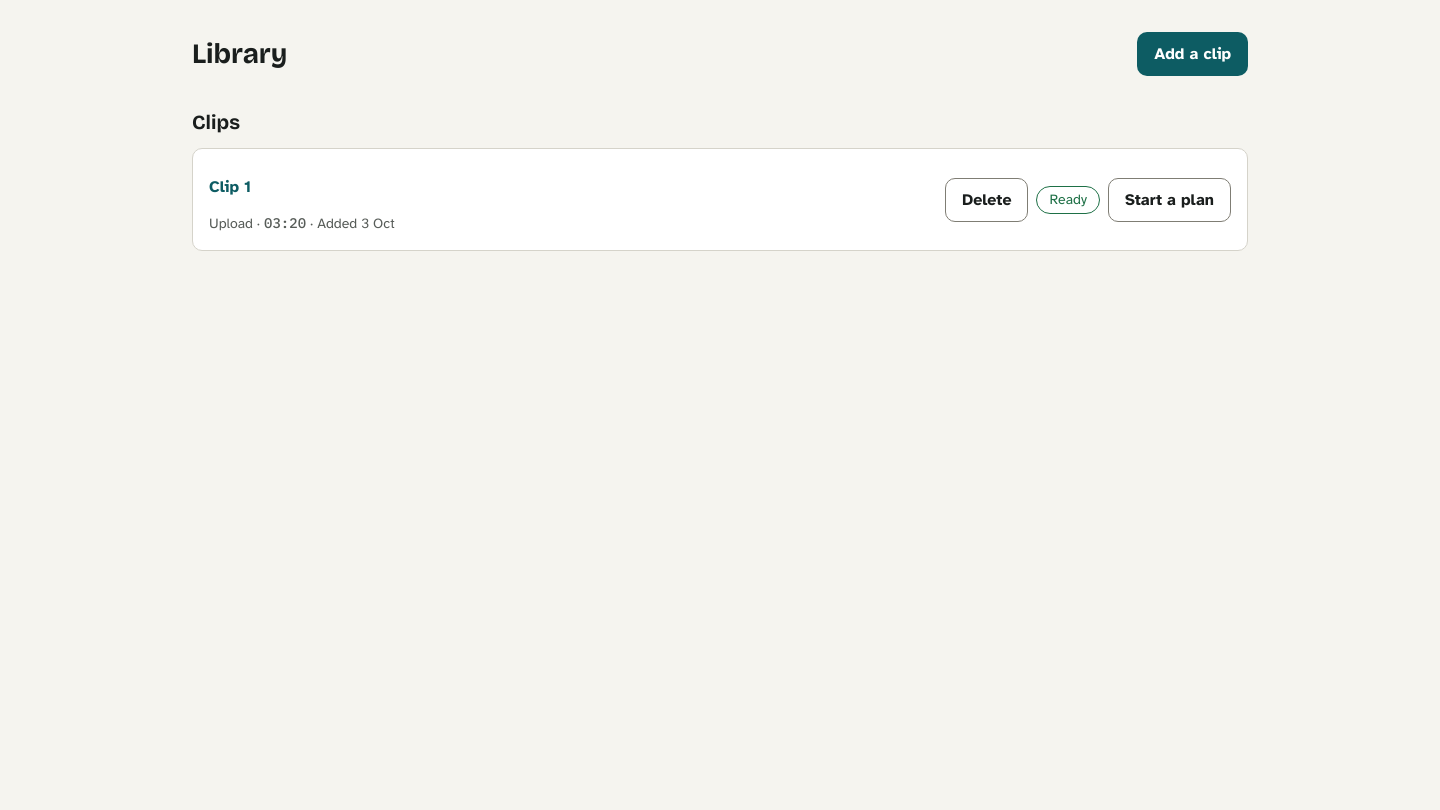
it: failed deletion stays in the dialog and can be retried
Click the button with aria-label "Delete Clip 1" at (987, 200), box [945,178,1028,222]
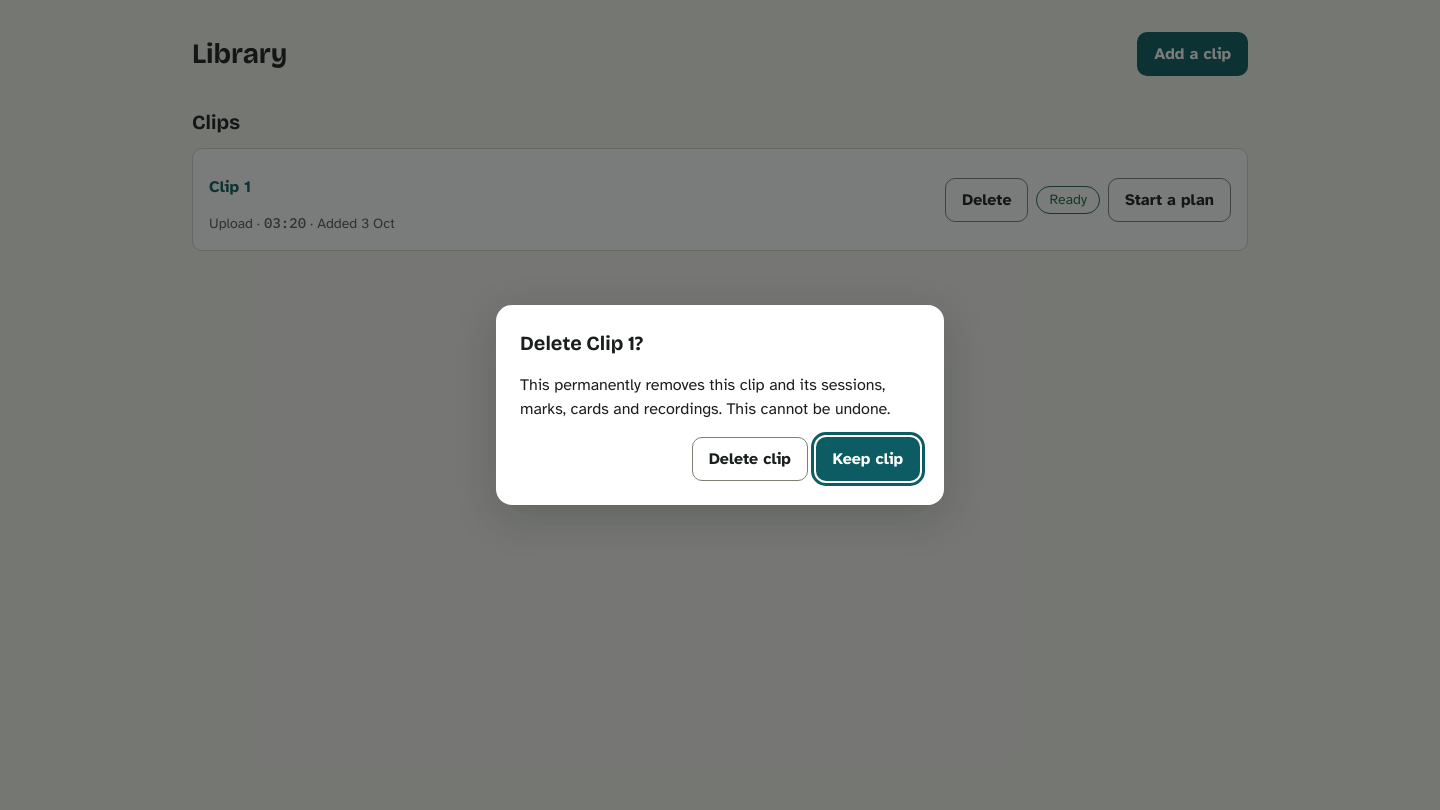
Click the button "Delete clip" at (750, 459), box [692,437,808,481]
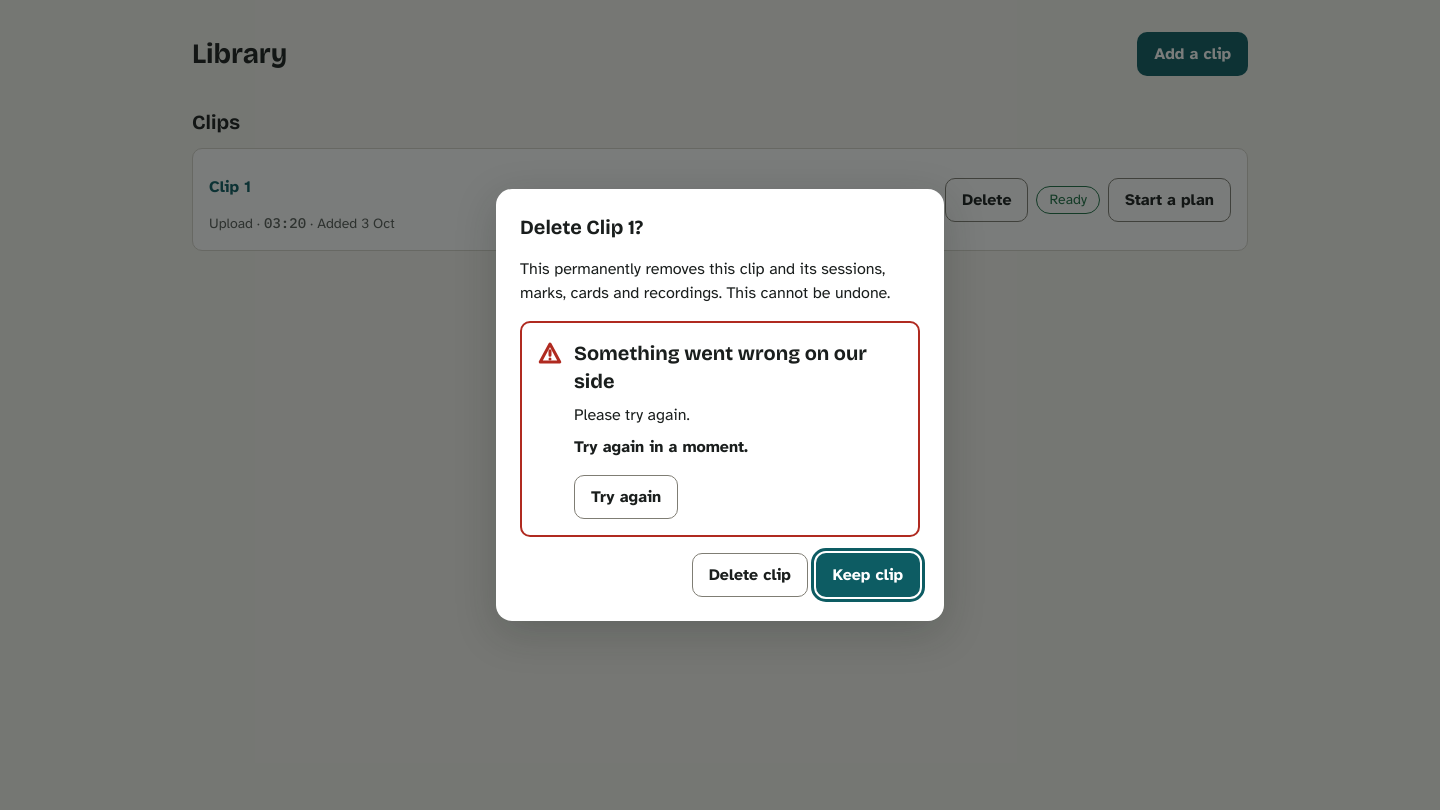
Expected: the message shows "Please try again.", [574,405,690,425]
Click the button "Delete clip" at (750, 575), box [692,553,808,597]
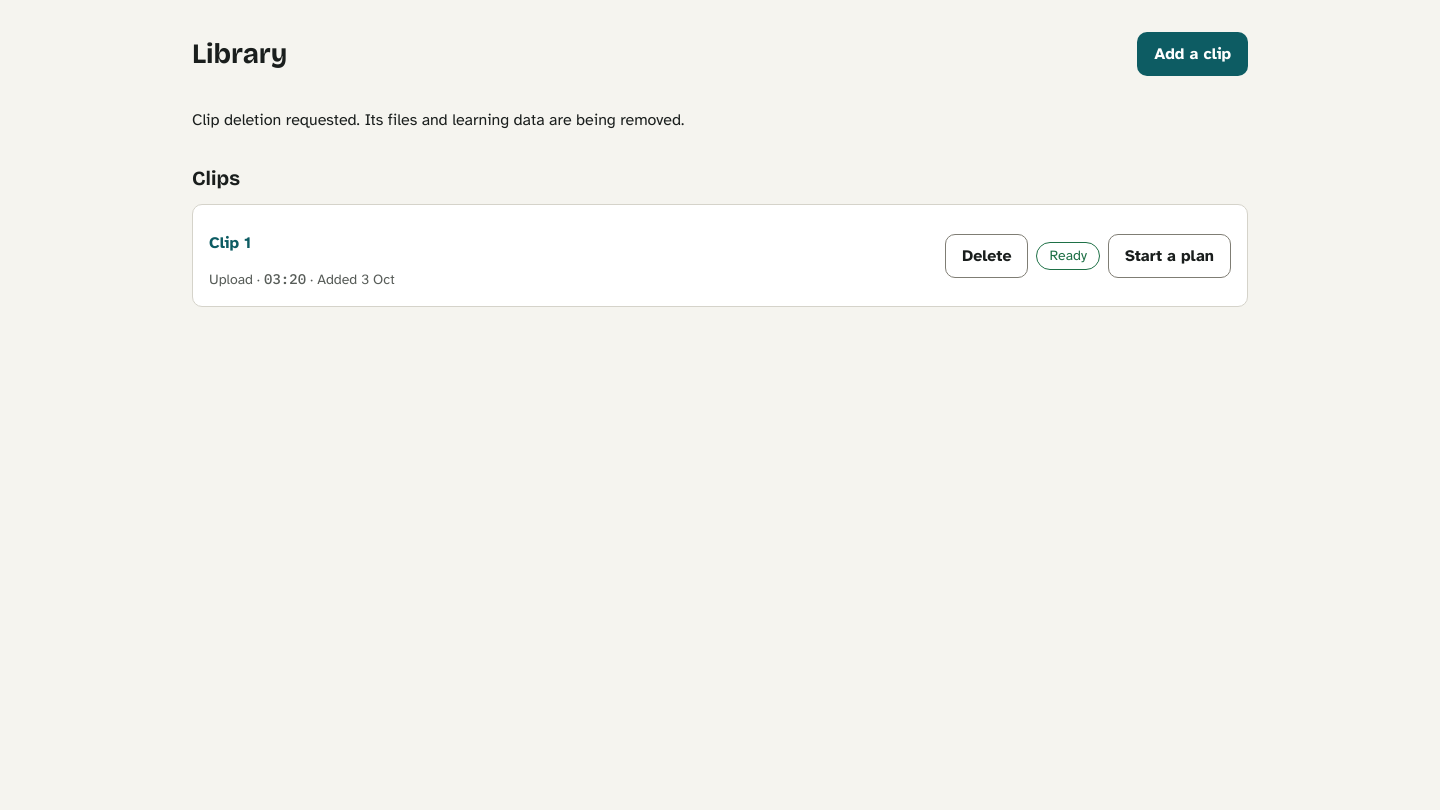
Expected: the text "Clip deletion requested. Its files and learning data are being removed." is shown, [192,110,684,130]
